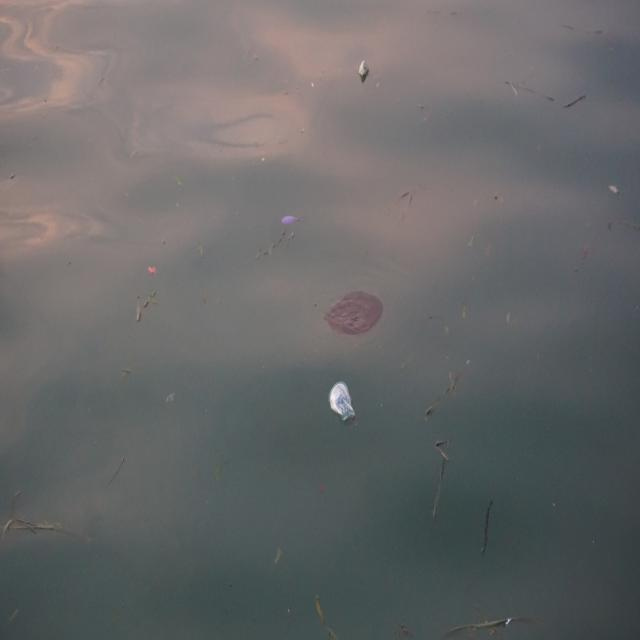Bungkus Minuman: (328, 378, 359, 425)
Kantong Plastik: (324, 283, 387, 345)
